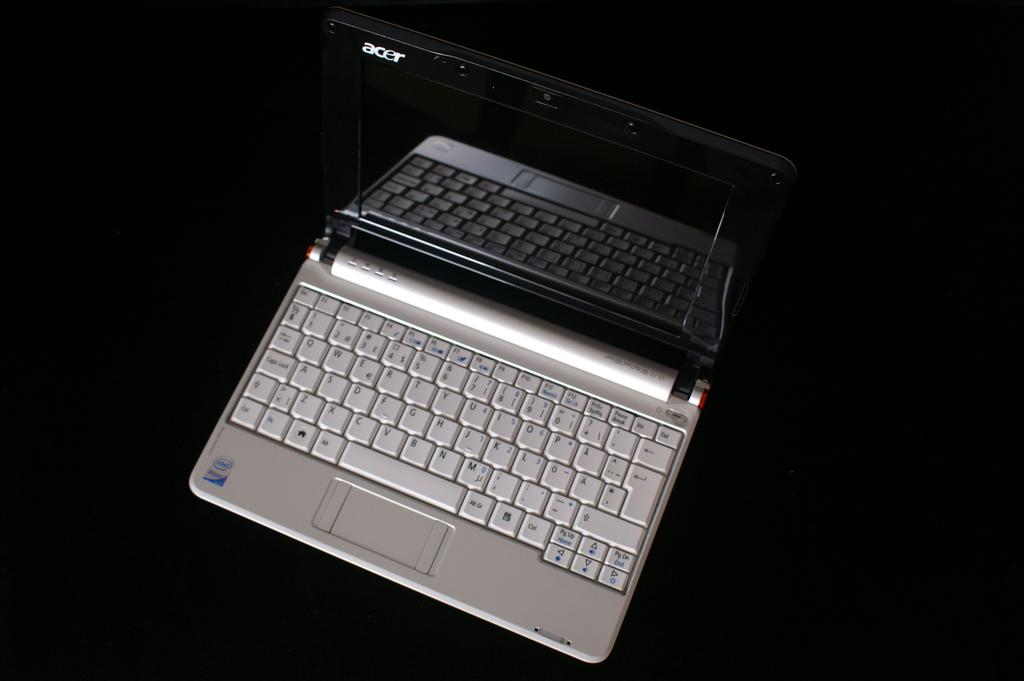Computer-keyboard: (227, 281, 682, 593)
Laptop: (154, 0, 813, 681)
